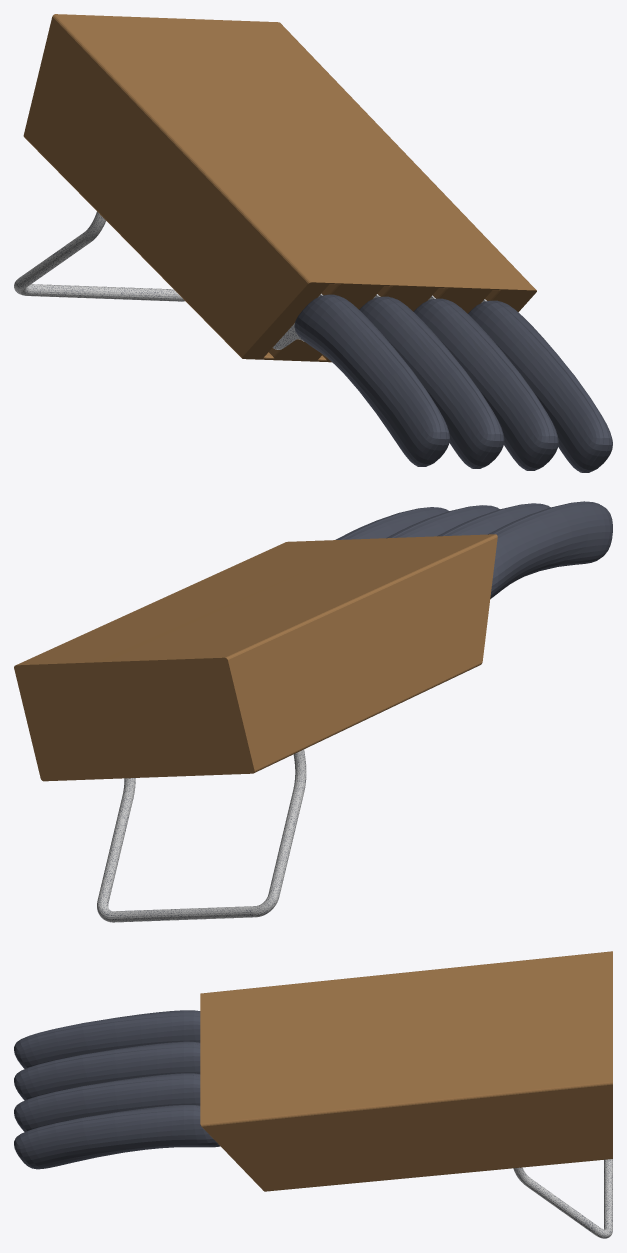
The picture shows the model from 3 angles, top to bottom: view 1: azimuth 30°, elevation 25°; view 2: azimuth 150°, elevation 25°; view 3: azimuth 270°, elevation 25°; orthographic projection. The views are drawn at different scales.
Parts seen in each view (by area): view 1: kitchen knives w holder; view 2: kitchen knives w holder; view 3: kitchen knives w holder.
Boxes of the visible parts, x1,y1,x2,y2 form: kitchen knives w holder: (14, 14, 612, 472); kitchen knives w holder: (14, 501, 612, 922); kitchen knives w holder: (14, 951, 612, 1238).
Bounding box in the file's own units: 29.39 × 32.38 × 73.81.
